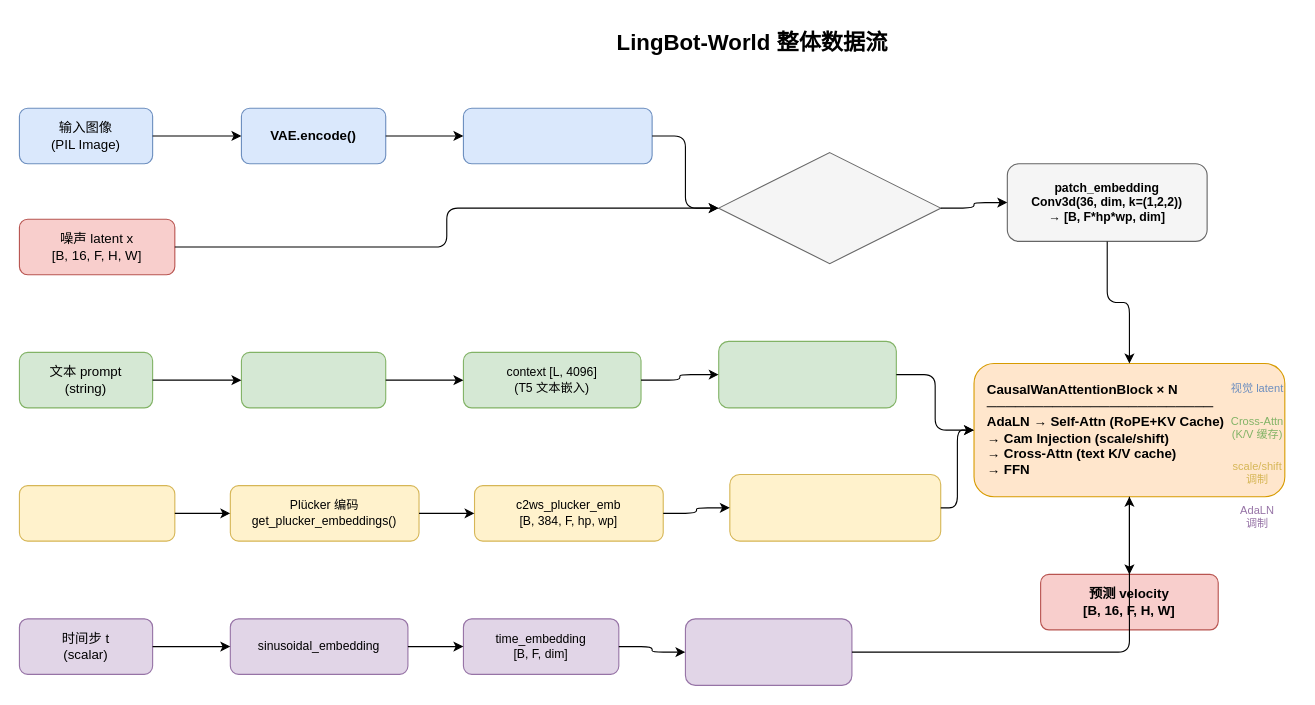
Image size: 1315x705. Some labels were removed from this diagram. Each missing label, with the centre of its shape:
"patch_embedding_wancamctrl Linear → [B, F*hp*wp, dim]" belongs at point (835, 507).
"T5 Encoder (umt5-xxl)" belongs at point (313, 379).
"text_embedding Linear-GELU-Linear → [B, L, dim]" belongs at point (807, 374).
"time_projection → 6D 调制信号 [B, F, 6, dim]" belongs at point (768, 651).
"torch.cat([x, y], dim=0) → [B, 36, F, H, W]" belongs at point (829, 208).
"y [B, 20, F, H, W] (4ch mask + 16ch VAE)" belongs at point (557, 135).
"摄像机轨迹 (poses.npy)" belongs at point (96, 513).
